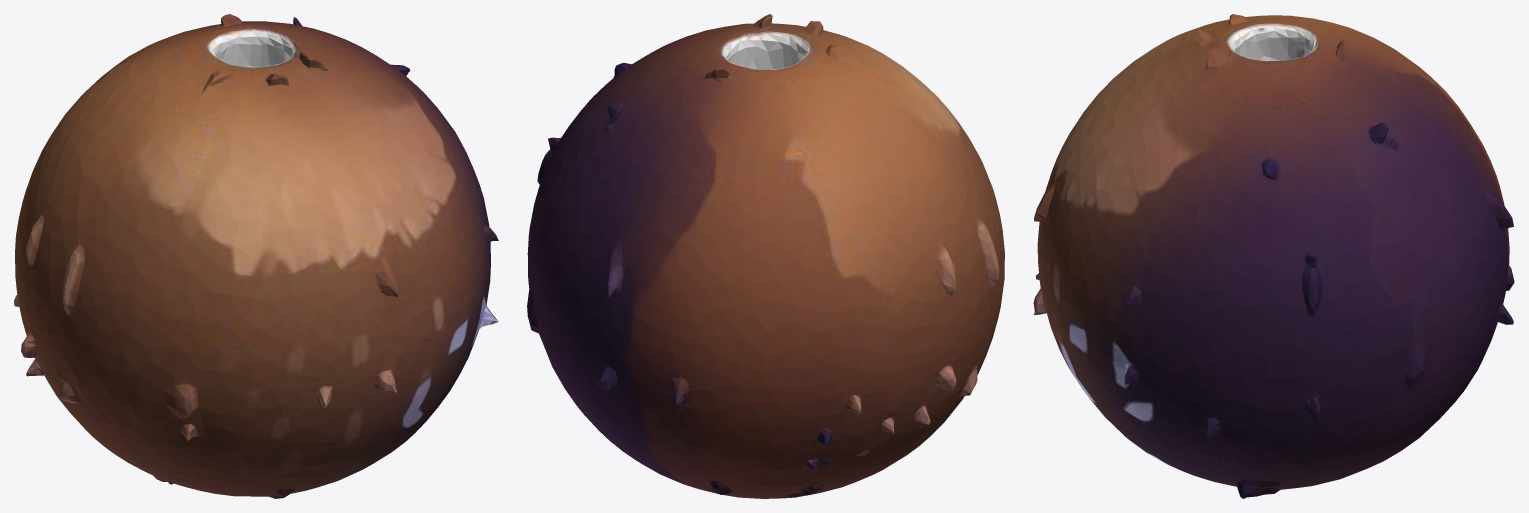
File: coconut.glb
3 views of the same model, side by side, from view 1: azimuth 30°, elevation 25°; view 2: azimuth 150°, elevation 25°; view 3: azimuth 270°, elevation 25° (orthographic).
Parts seen in each view (by area): view 1: tmp9f187ovx.ply; view 2: tmp9f187ovx.ply; view 3: tmp9f187ovx.ply.
Boxes of the visible parts, bbox=[...] form: tmp9f187ovx.ply: bbox=[14, 14, 498, 498]; tmp9f187ovx.ply: bbox=[527, 14, 1004, 498]; tmp9f187ovx.ply: bbox=[1033, 14, 1514, 498].
Size of the model in its own units: 1.99 by 1.98 by 1.98.
1 material, 1 textured.
